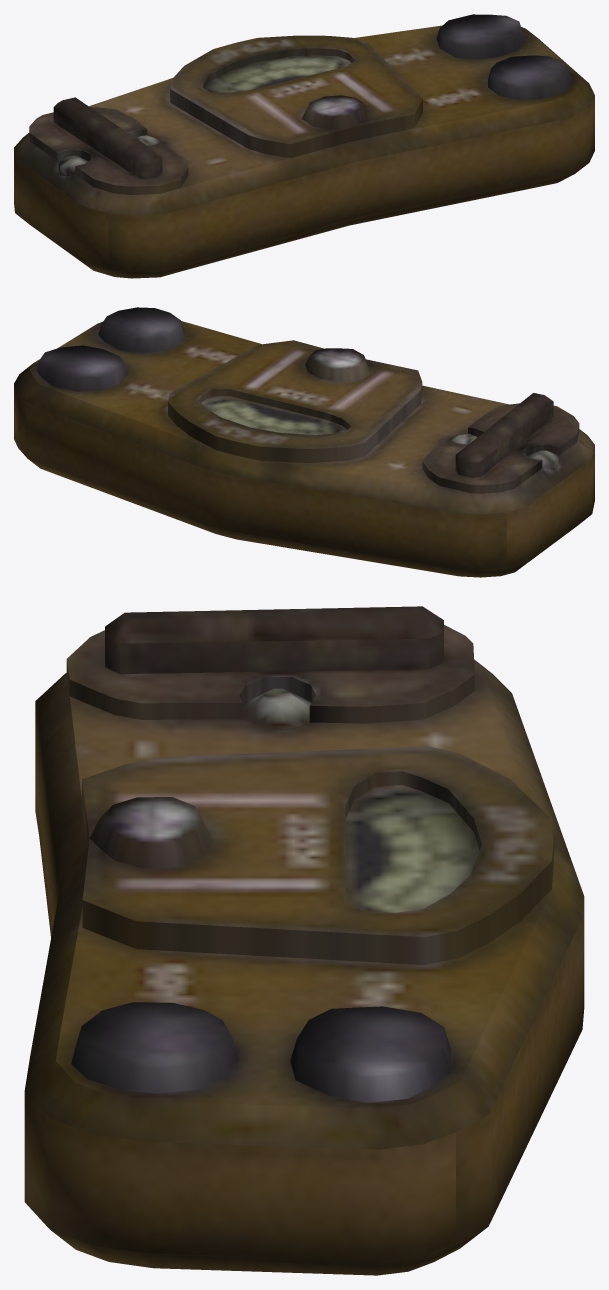
Rendered from dosimeter_2.obj.
3 renders of one model, top to bottom at view 1: azimuth 30°, elevation 25°; view 2: azimuth 150°, elevation 25°; view 3: azimuth 270°, elevation 25°, orthographic. The views are drawn at different scales.
Visible parts, largest first — view 1: dosimeter_2; view 2: dosimeter_2; view 3: dosimeter_2.
Boxes of the visible parts, box(x1,y1,x2,y2) form: dosimeter_2: box(14, 14, 594, 278); dosimeter_2: box(14, 307, 594, 577); dosimeter_2: box(24, 606, 584, 1275).
Bounding box in the file's own units: 9.91 × 2.1 × 4.67.
1 material, 1 textured.
